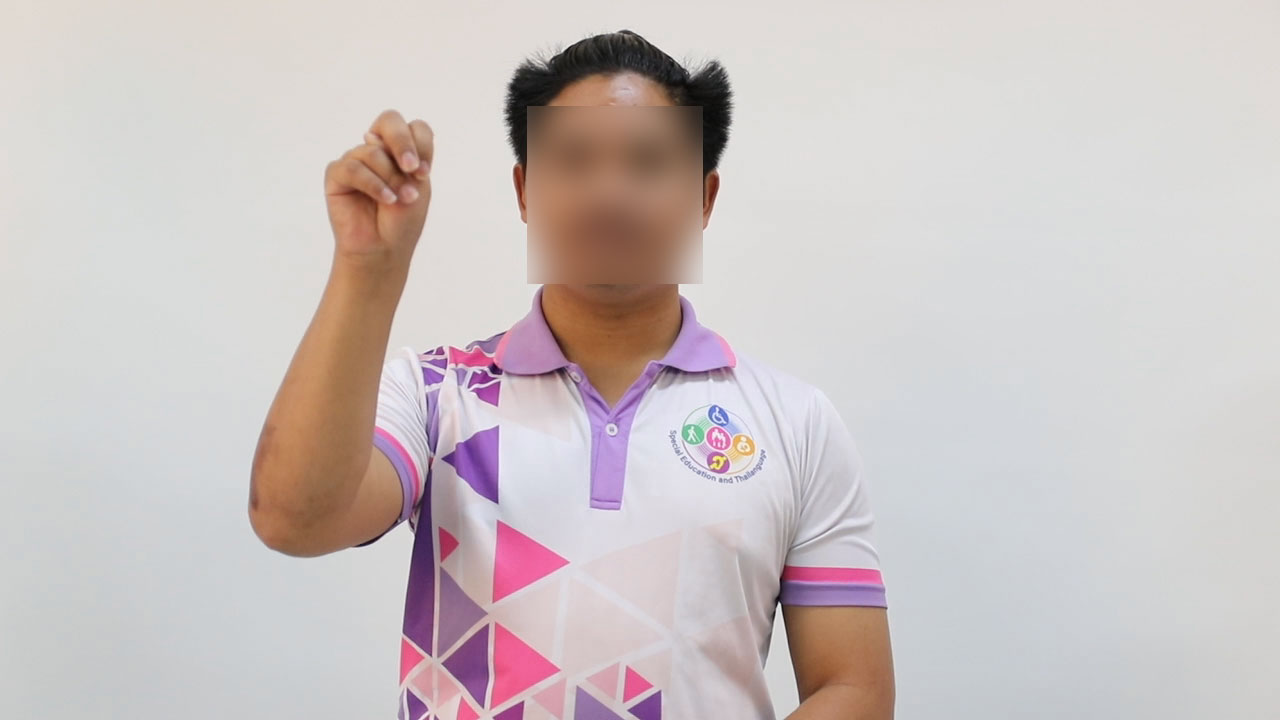nor: (315, 103, 442, 267)
